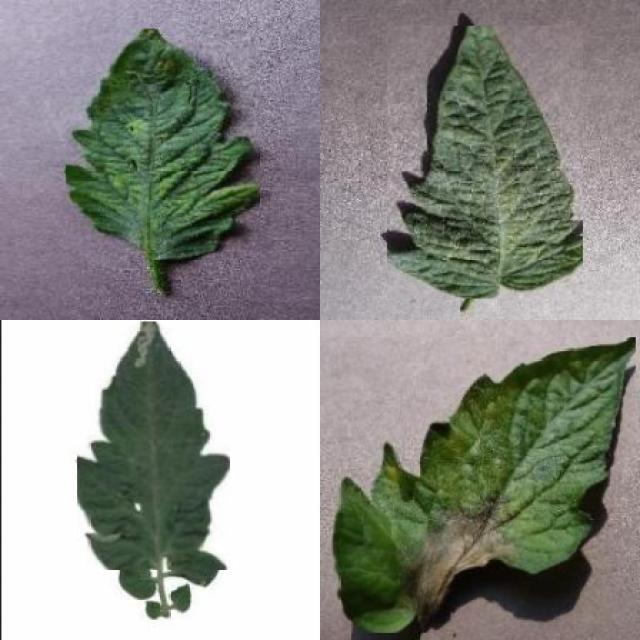Late Blight: (331, 337, 636, 633)
Leaf Miner: (77, 321, 230, 570)
Mosaic Virus: (66, 29, 260, 260)
Spider Mites: (387, 25, 583, 298)
